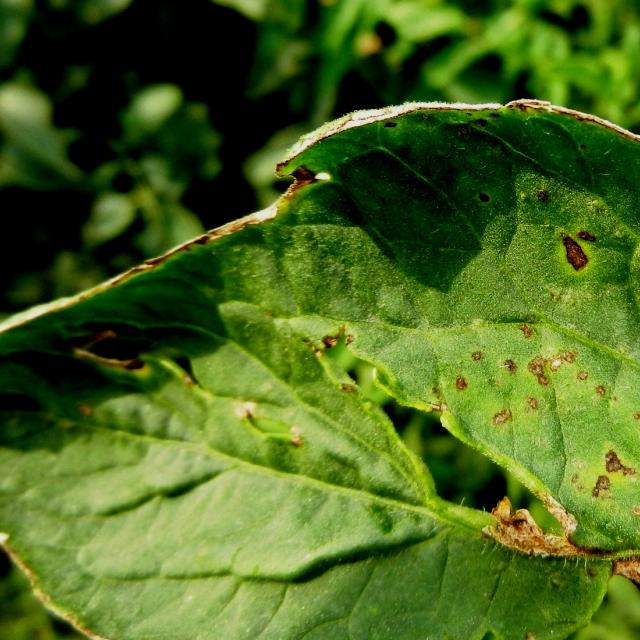Tomato leaf bacterial spot: (0, 69, 640, 640)
